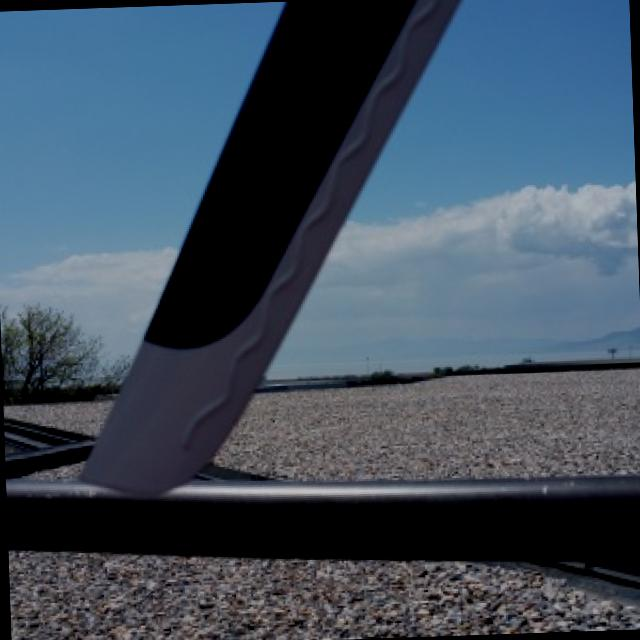healthy: (8, 551, 640, 640)
